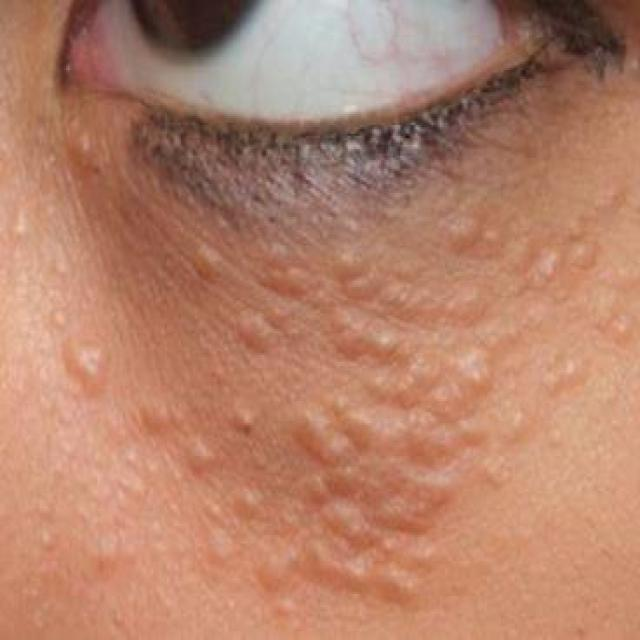flat_wart: (400, 311, 598, 476), (324, 252, 509, 406), (286, 388, 484, 506), (183, 217, 313, 359), (139, 392, 279, 522), (290, 494, 446, 610), (447, 184, 607, 292), (57, 331, 124, 395)
milium: (0, 178, 47, 278)
